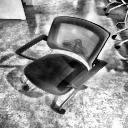chair_success: (12, 15, 111, 117)
